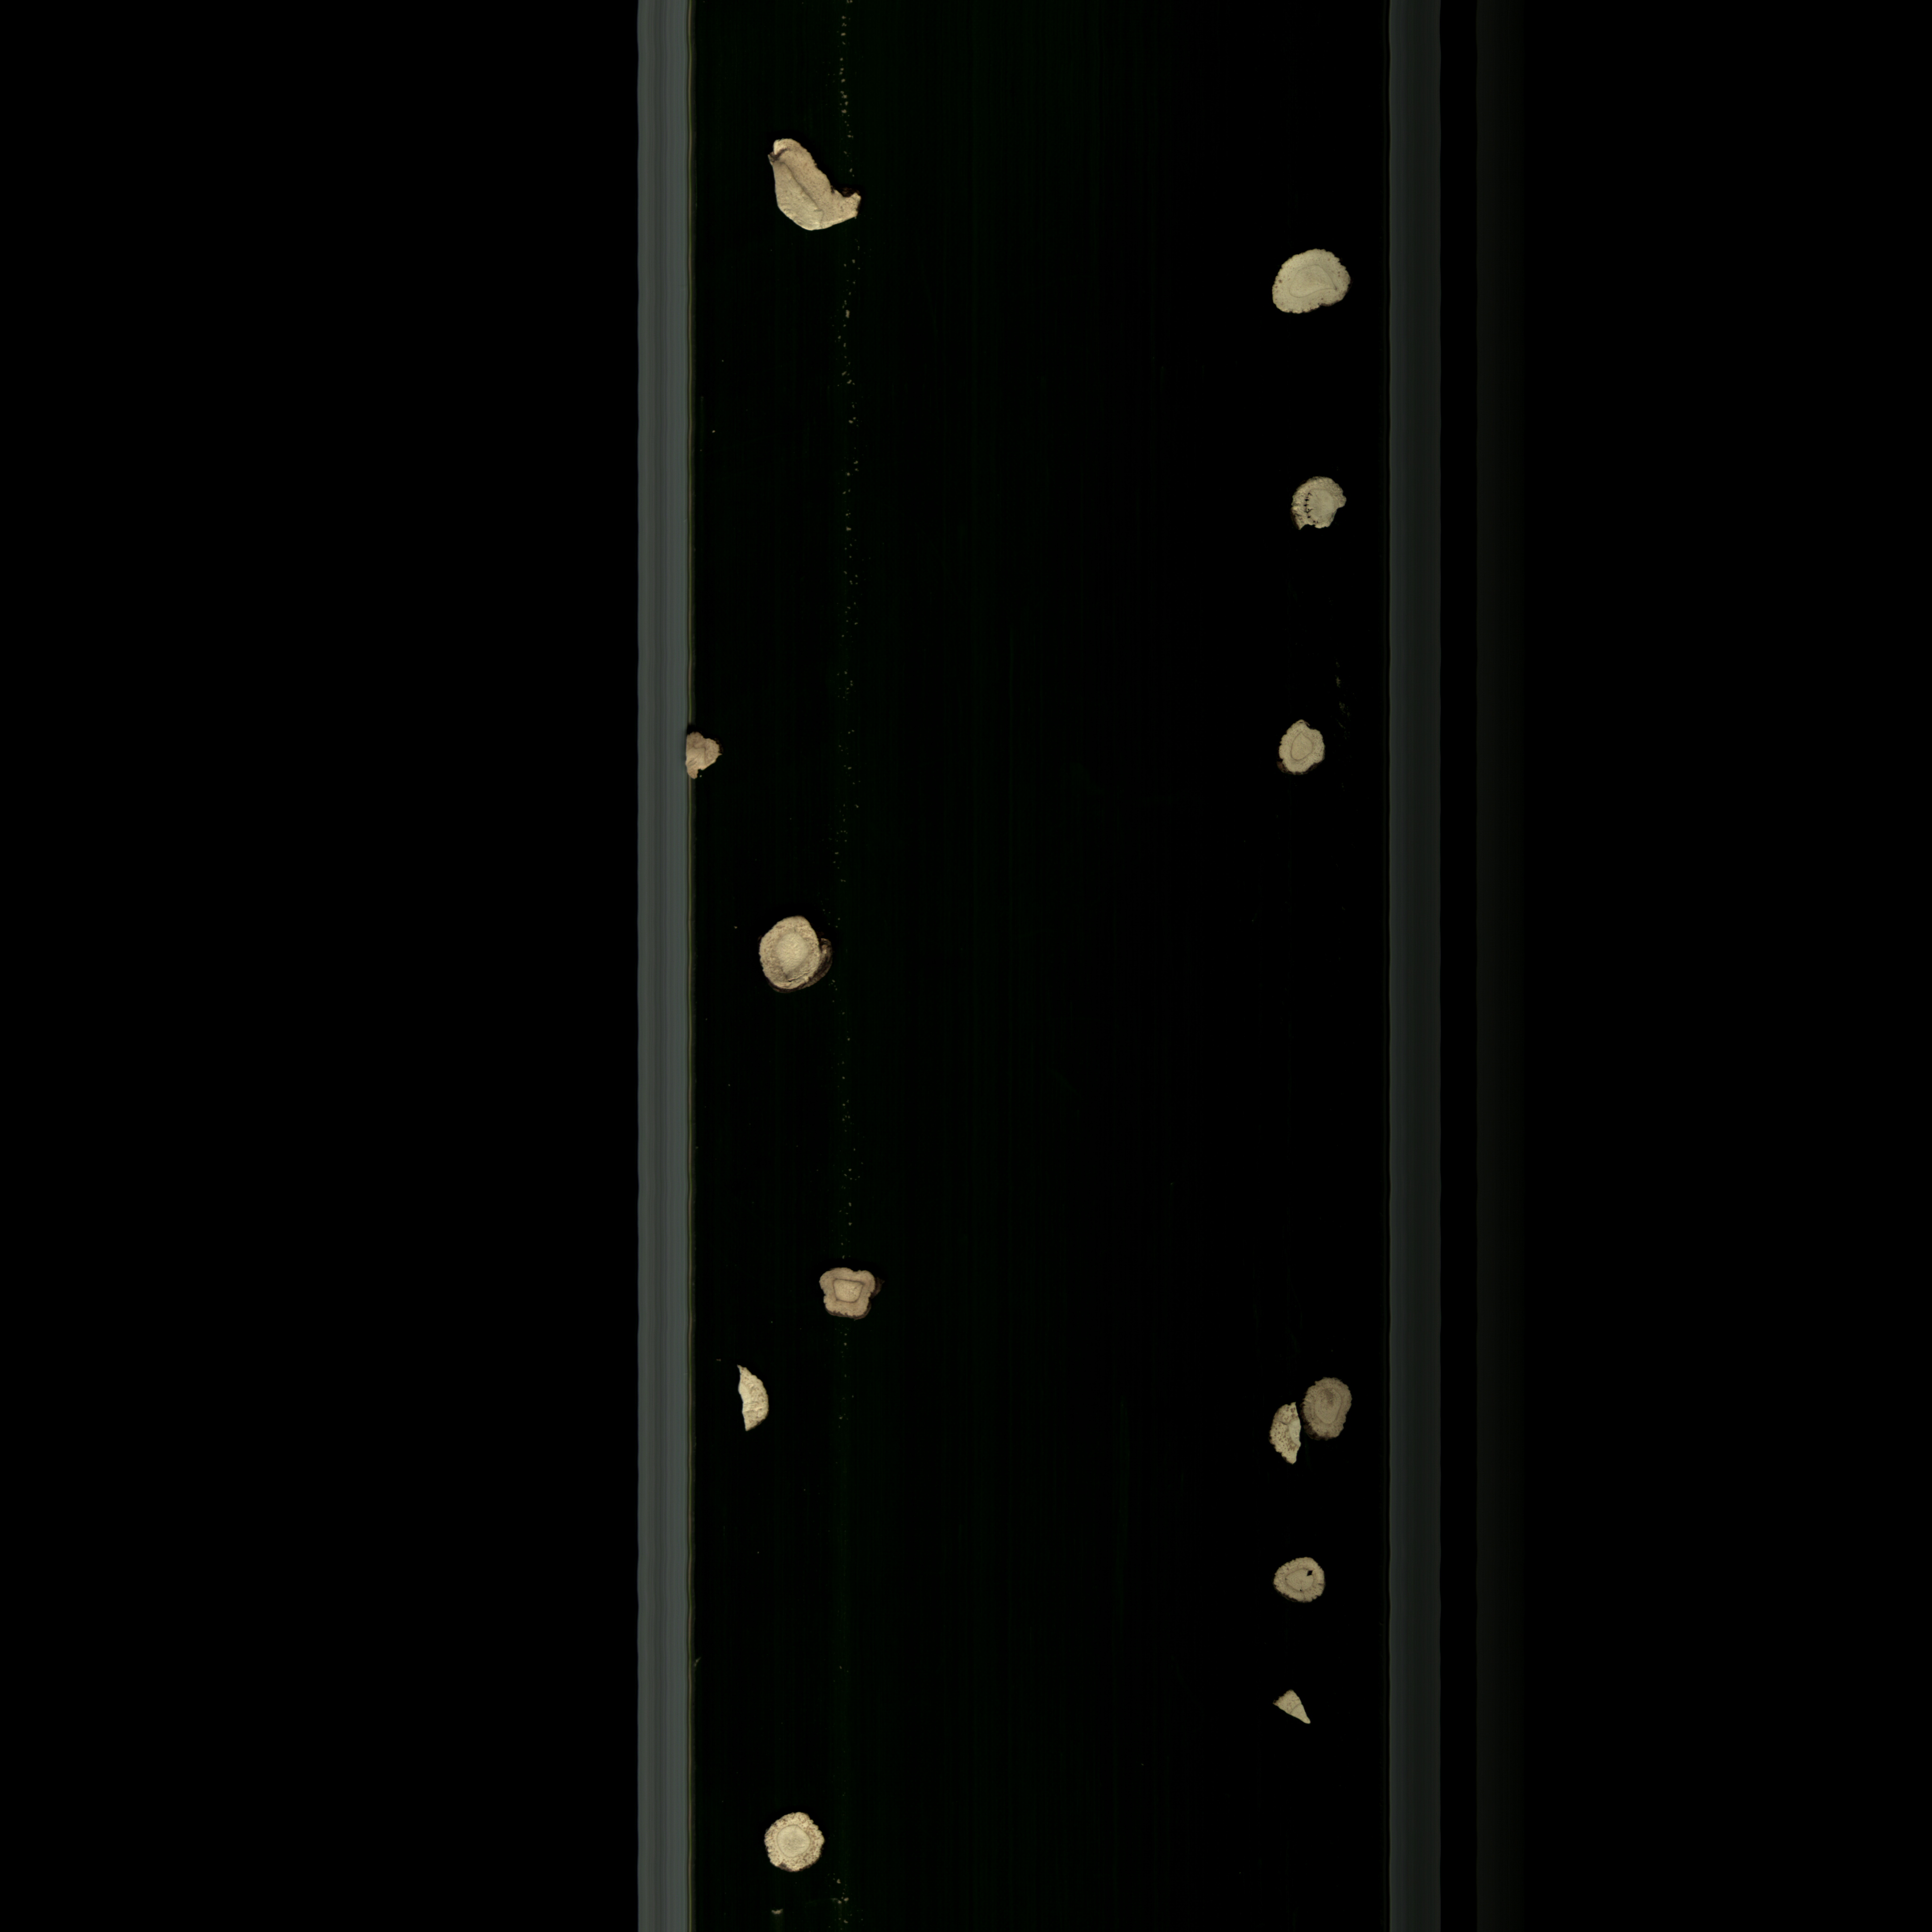debris: (752, 124, 872, 251)
distortion: (1251, 244, 1361, 331), (807, 1247, 893, 1334), (1256, 708, 1338, 798)
dreg: (718, 1353, 786, 1444), (1253, 1391, 1315, 1483), (1263, 1679, 1323, 1743), (678, 720, 724, 789)
hole: (1274, 465, 1364, 543), (1249, 1545, 1343, 1615)
moldy: (1295, 1369, 1369, 1451)
